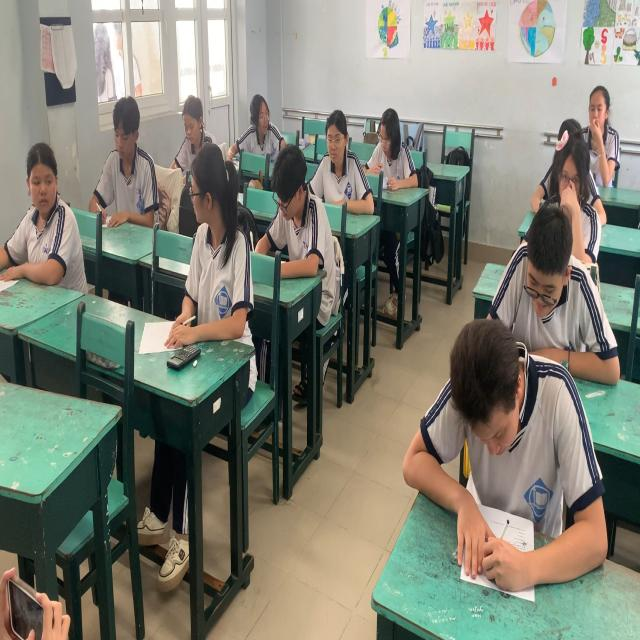cheating: (179, 147, 250, 337), (13, 140, 78, 280), (236, 84, 280, 171)
not_cheating: (413, 309, 609, 520), (507, 211, 595, 345), (103, 91, 160, 239), (266, 140, 323, 284), (541, 140, 600, 250), (582, 75, 623, 176), (317, 98, 353, 205), (370, 96, 408, 195), (176, 83, 215, 161)
